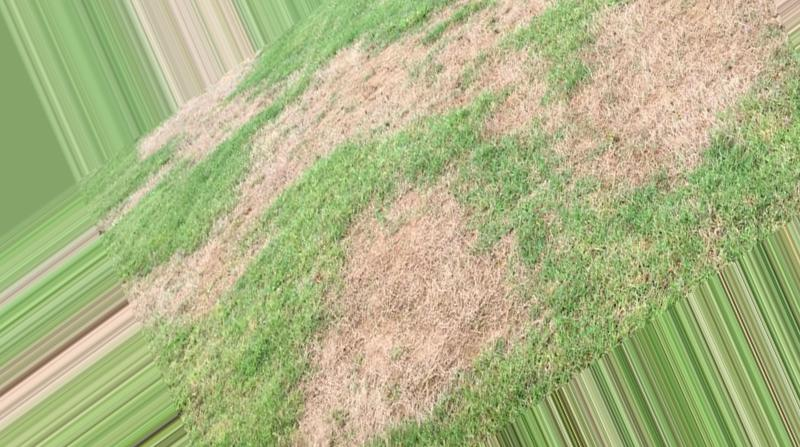patch: (362, 203, 500, 376), (601, 14, 734, 141), (324, 68, 434, 118), (144, 266, 247, 304), (501, 89, 549, 135), (181, 101, 236, 141), (264, 130, 304, 175)
